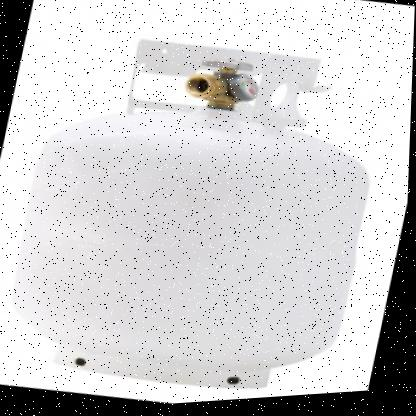gas-tank: (0, 0, 414, 415)
